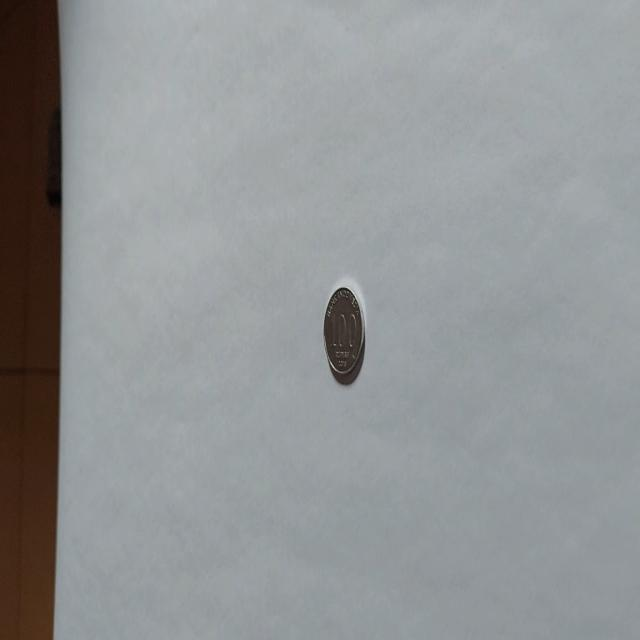seratus rupiah: (322, 284, 365, 384)
